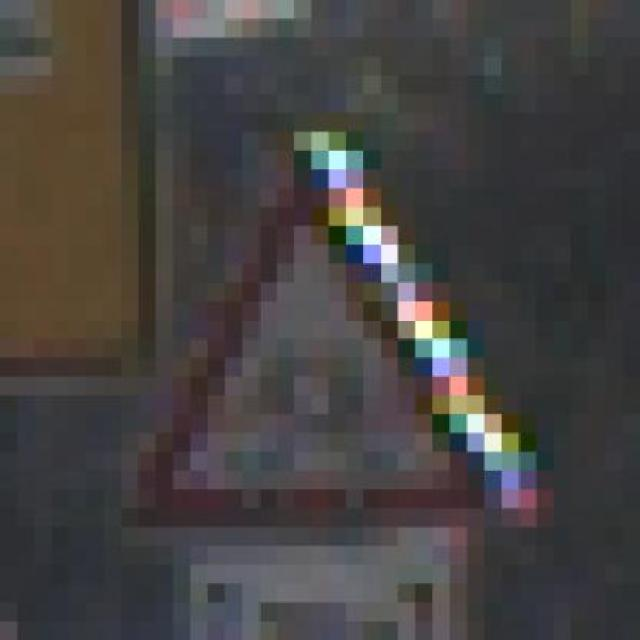CYCLE ROUTE AHEAD WARNING: (86, 94, 537, 546)
